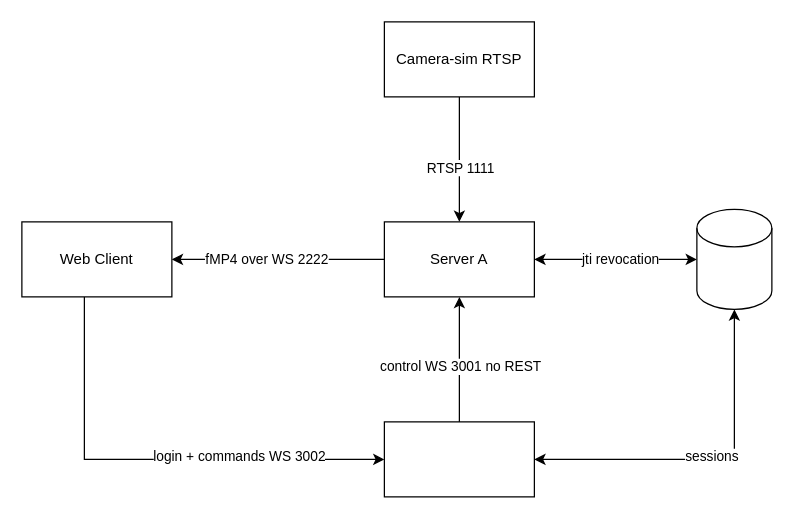
The diagram is 794 pixels wide and 519 high, and some of its shapes have lost their labels. The centre of each missing label's shape, as x and y in pixels:
"Redis" belongs at pixel 734 258.
"Server B" belongs at pixel 458 459.
